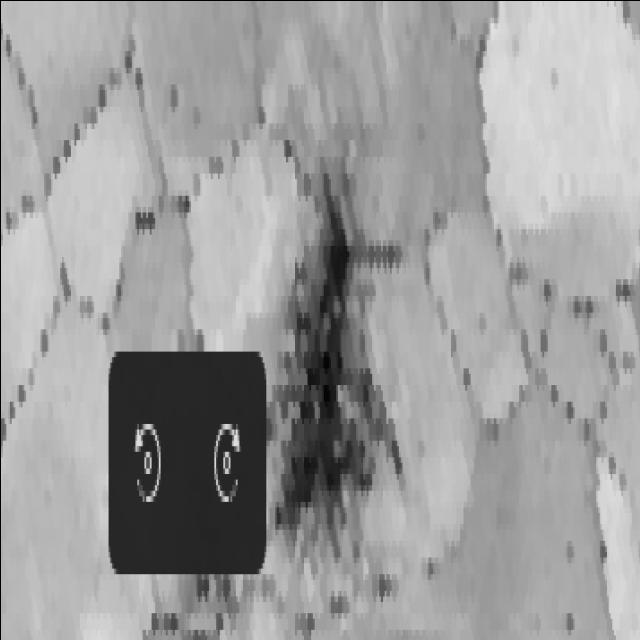good_void: (268, 112, 404, 603), (165, 80, 181, 127), (563, 530, 573, 573), (475, 302, 486, 340), (563, 603, 575, 635)
